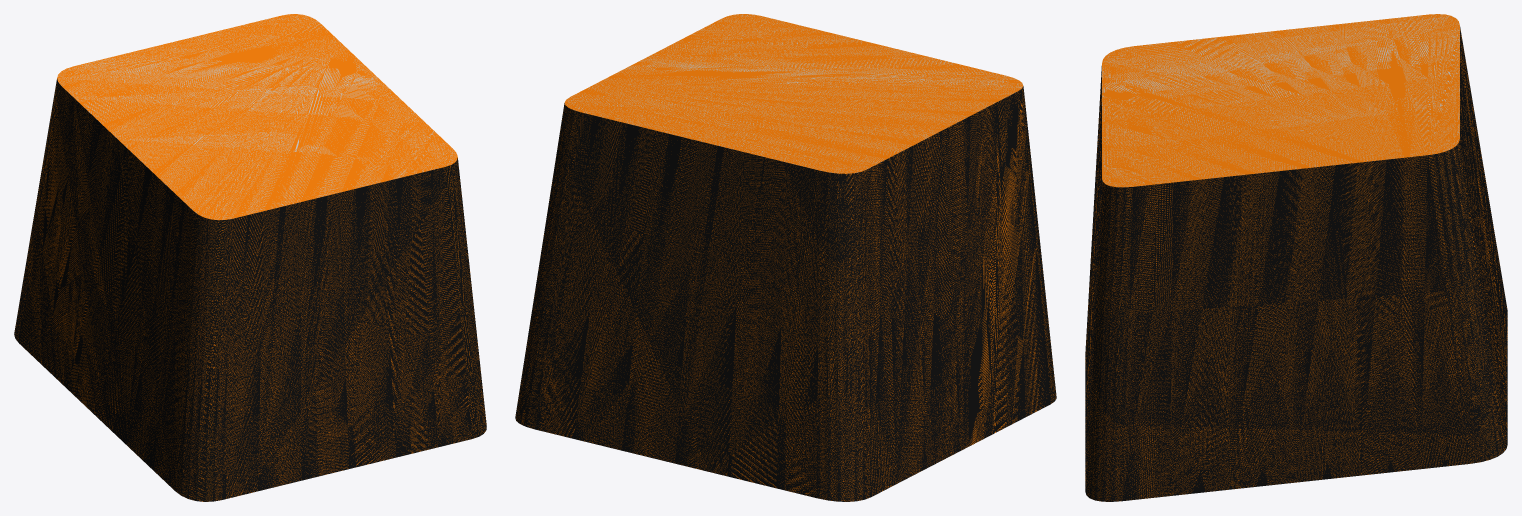
The model's file is original-2.obj.
3 views of the same model, side by side, from view 1: azimuth 30°, elevation 25°; view 2: azimuth 150°, elevation 25°; view 3: azimuth 270°, elevation 25° (orthographic). The views are drawn at different scales.
Visible parts, largest first — view 1: mesh2/mesh2-geometry#mesh2-geometry; view 2: mesh2/mesh2-geometry#mesh2-geometry; view 3: mesh2/mesh2-geometry#mesh2-geometry.
Boxes of the visible parts, box(x1,y1,x2,y2) form: mesh2/mesh2-geometry#mesh2-geometry: box(14, 14, 486, 501); mesh2/mesh2-geometry#mesh2-geometry: box(515, 14, 1056, 501); mesh2/mesh2-geometry#mesh2-geometry: box(1085, 14, 1507, 501).
Size of the model in its own units: 0.0633 by 0.0606 by 0.0681.
